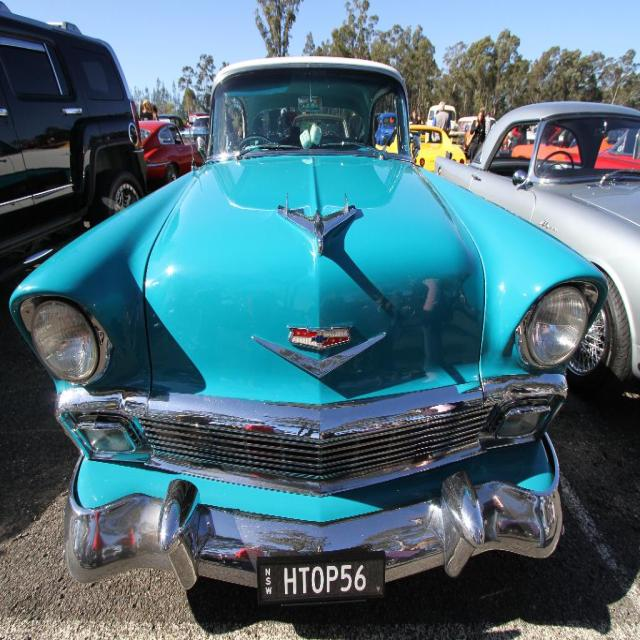car: (4, 53, 628, 629)
